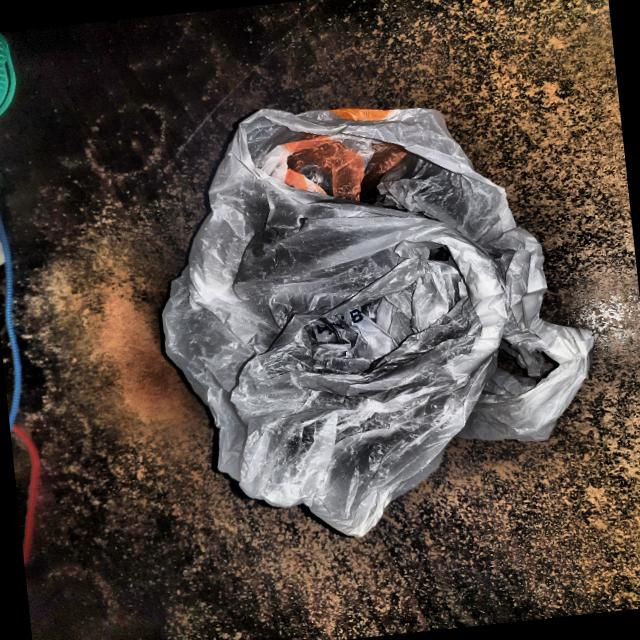plastic bag: (117, 71, 608, 562)
